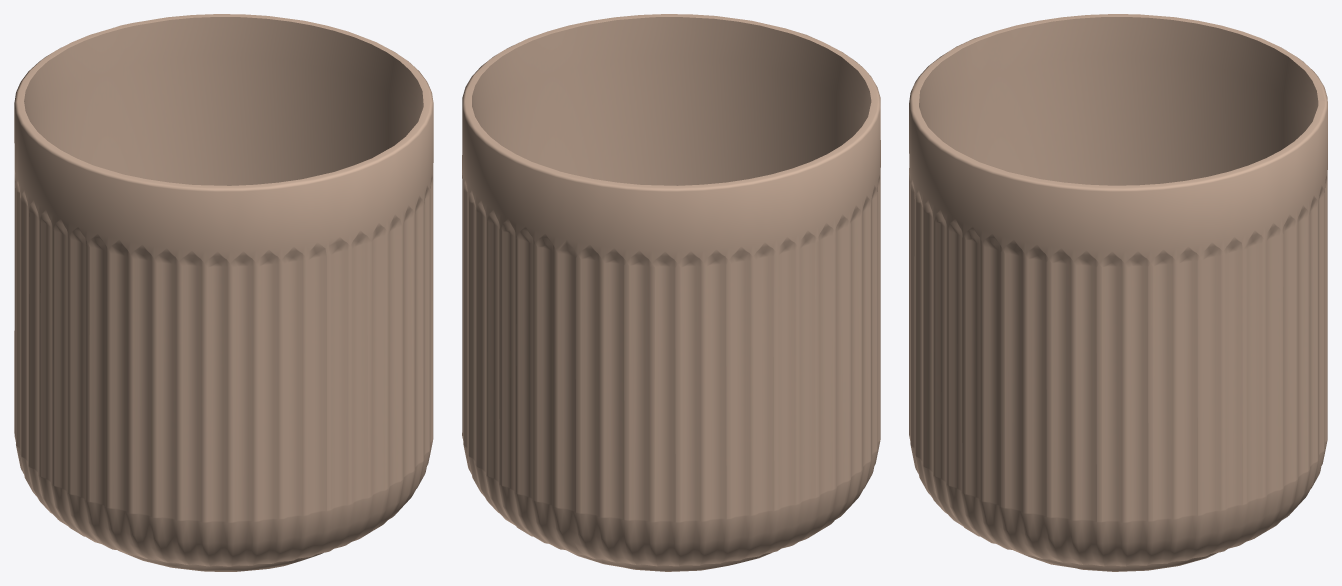
Rendered from 30 - GRADVIS Plant pot - inoutdoorlight brown 12 cm.glb.
The picture shows the model from 3 angles, left to right: view 1: azimuth 30°, elevation 25°; view 2: azimuth 150°, elevation 25°; view 3: azimuth 270°, elevation 25°; orthographic projection.
Visible parts, largest first — view 1: ASY_ART_40623290_S01_NV01; view 2: ASY_ART_40623290_S01_NV01; view 3: ASY_ART_40623290_S01_NV01.
Boxes of the visible parts, box(x1,y1,x2,y2) form: ASY_ART_40623290_S01_NV01: box(14, 14, 433, 571); ASY_ART_40623290_S01_NV01: box(462, 14, 880, 571); ASY_ART_40623290_S01_NV01: box(909, 14, 1327, 571).
Size of the model in its own units: 0.136 by 0.1496 by 0.136.
1 material, 1 textured.
